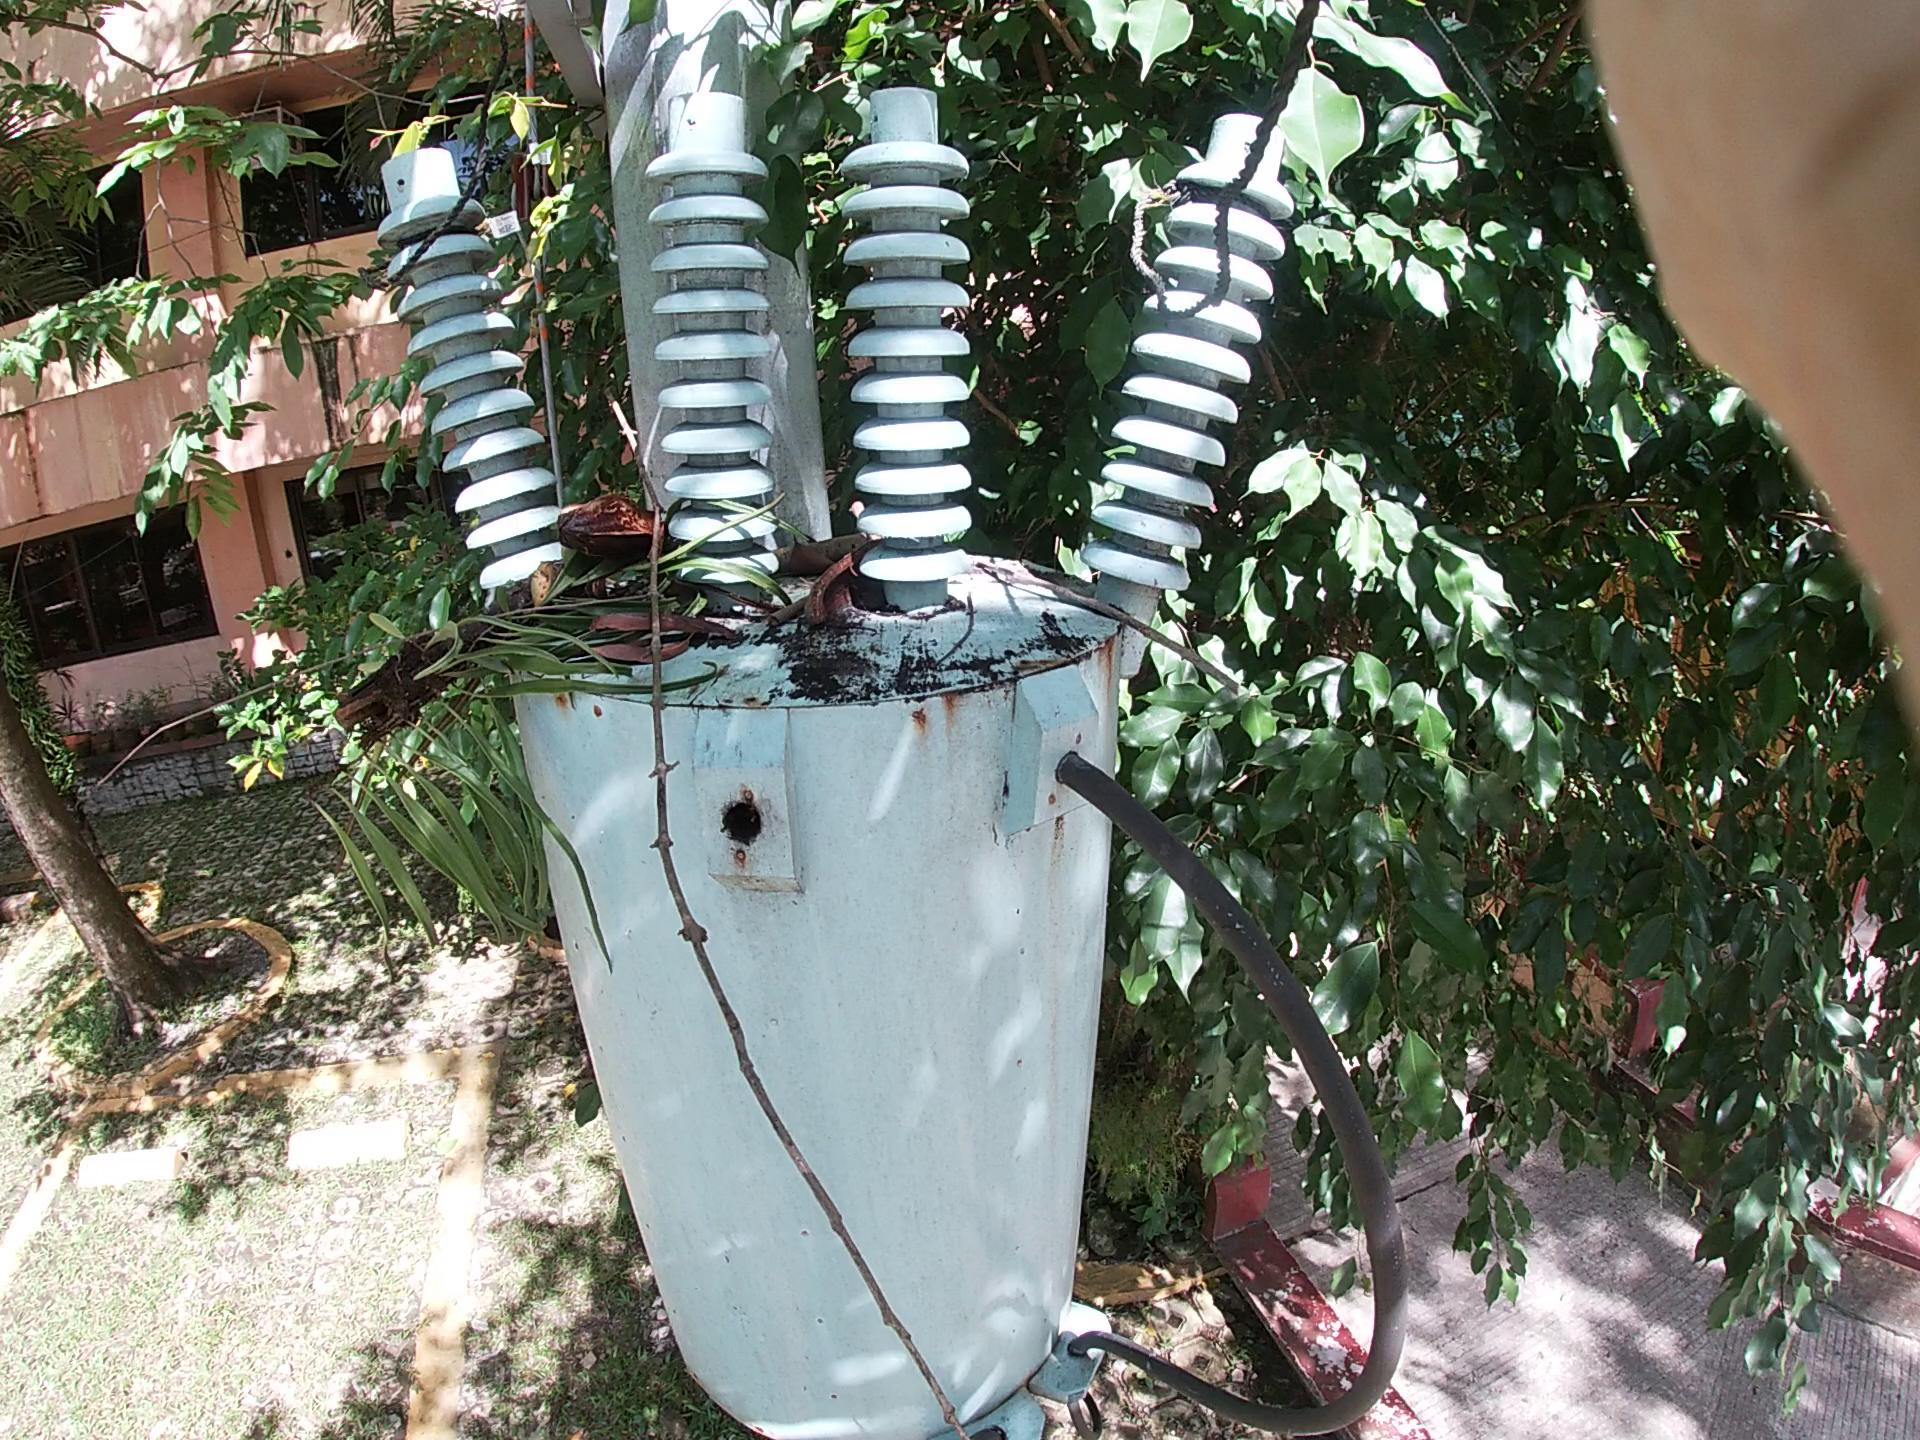branch with leaves: (263, 351, 828, 973)
leaf: (432, 24, 1138, 365)
mahogany fruit: (541, 473, 671, 626), (792, 542, 893, 650)
tree branch: (570, 424, 958, 1271), (909, 498, 1346, 700), (748, 537, 930, 749)
